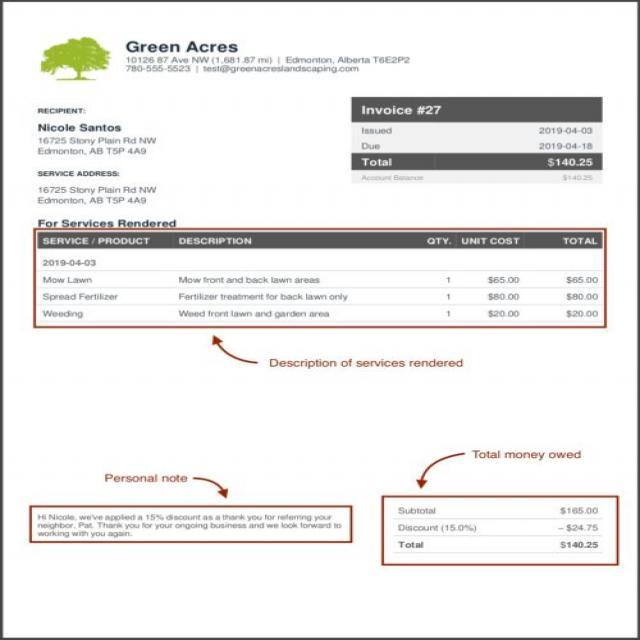customer_address: (36, 133, 159, 158)
customer_name: (36, 120, 125, 134)
due_date: (536, 138, 596, 152)
invoice_date: (535, 124, 597, 136)
invoice_number: (416, 103, 448, 118)
invoice_subtotal: (557, 502, 603, 516)
invoice_total: (556, 538, 606, 554)
item_description: (174, 272, 352, 322)
item_quantity: (437, 274, 456, 322)
item_total_price: (559, 271, 601, 324)
item_unit_price: (482, 274, 522, 321)
supplier_address: (123, 55, 412, 65)
supplier_name: (122, 38, 243, 55)
